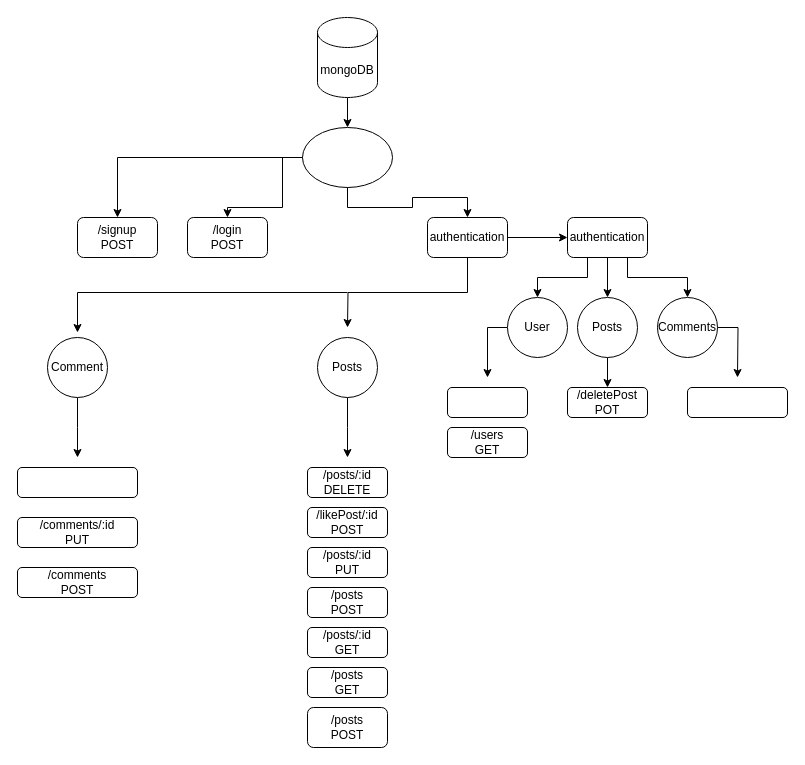
Some shapes in this 805 by 765 pixel diagram are drawn without their labels. Each missing label, with the centre of its shape:
"/commentDelete/:id PUT" goes at pixel 77 482.
"/deleteComment POT" goes at pixel 737 402.
"/users/:id DELETE" goes at pixel 487 402.
"server" goes at pixel 347 157.
